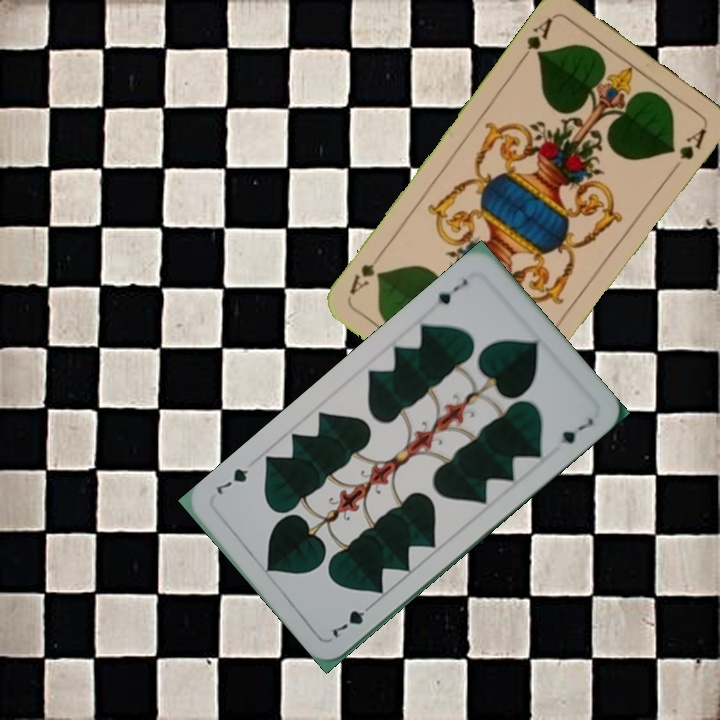G7: (328, 598, 377, 641), (433, 274, 470, 308)
GA: (515, 13, 556, 65)
